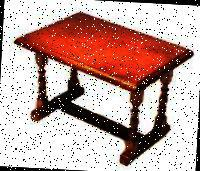Mesa: (11, 12, 195, 169)
